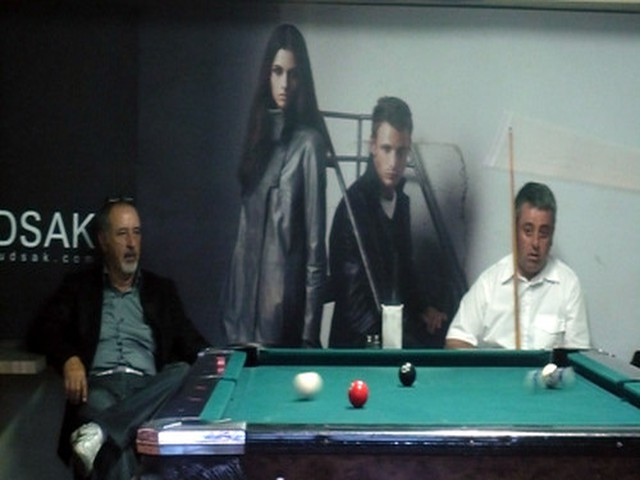Person: (31, 199, 215, 454), (235, 23, 331, 349), (343, 90, 441, 348), (461, 173, 596, 347)
